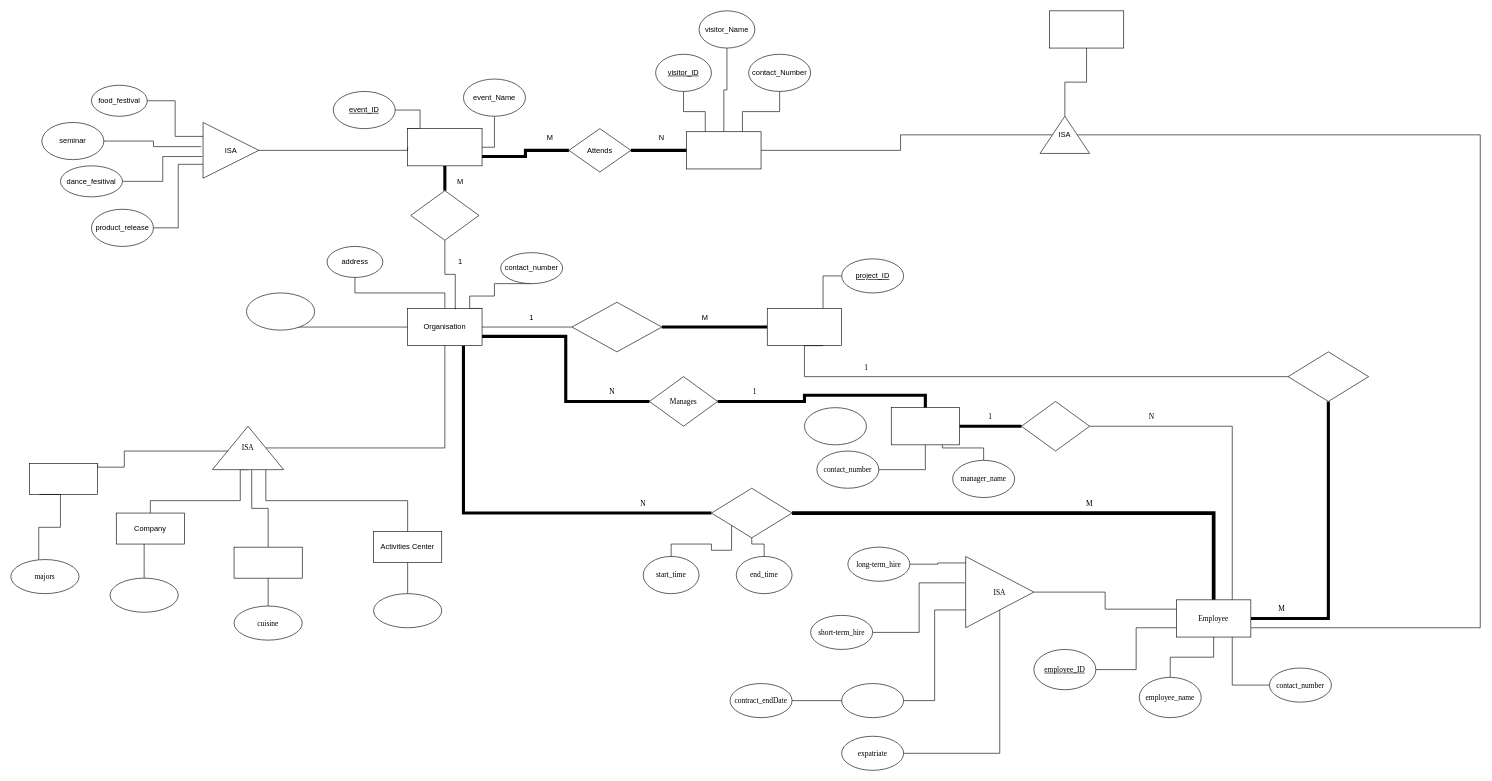
This 1492x781 diagram has some shape labels left out. The centre of each missing label's shape, as x and y in pixels:
activity_type: point 407,610
appointed as: point 1055,426
Assigned: point 616,327
Conducted in: point 444,215
Employee_Visitor: point 1086,29
Event: point 444,147
local: point 872,700
Manager: point 925,426
manager_ID: point 835,426
organisation_name: point 280,311
product_line: point 143,595
Project: point 804,327
University: point 63,478
Vendor: point 267,562
Visitor: point 723,150
Works for: point 751,513
Works in: point 1328,376
